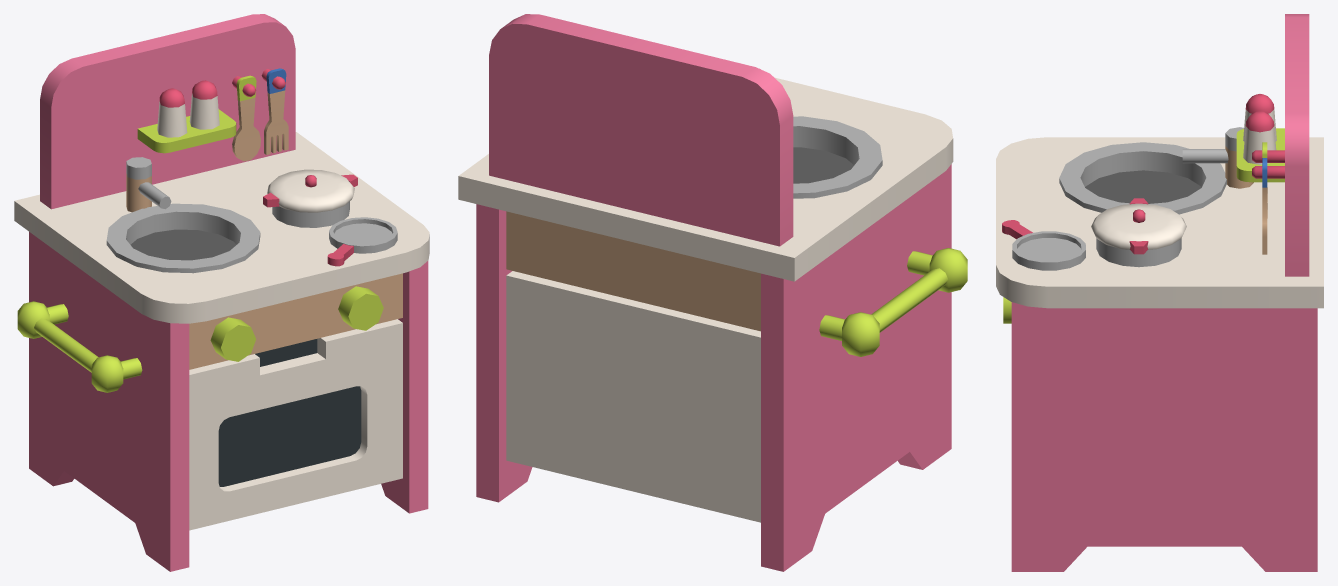
File: Stove_01.fbx
3 views of the same model, side by side, from view 1: azimuth 30°, elevation 25°; view 2: azimuth 150°, elevation 25°; view 3: azimuth 270°, elevation 25° (orthographic). The views are drawn at different scales.
Parts seen in each view (by area): view 1: Stove_01; view 2: Stove_01; view 3: Stove_01.
Part boxes in pixels (x1,y1,x2,y2): Stove_01: (14,14,429,571); Stove_01: (458,14,967,571); Stove_01: (996,14,1323,571).
Size of the model in its own units: 0.7013 by 0.8549 by 0.5802.
